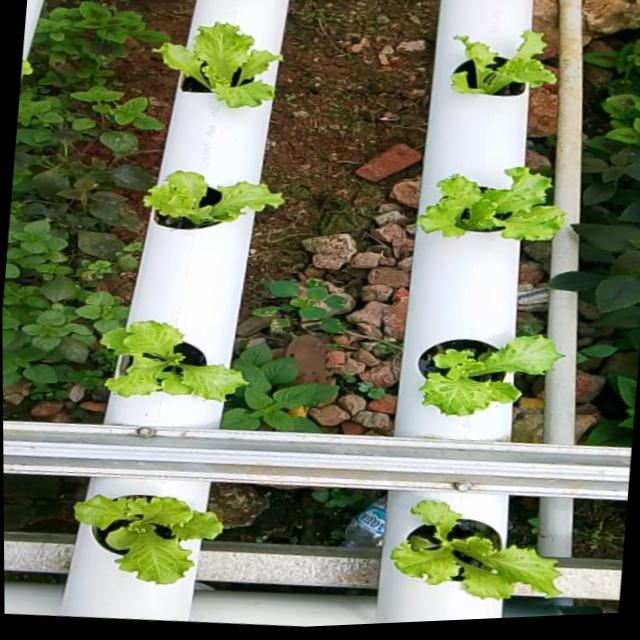Baby: (397, 495, 570, 594), (78, 478, 227, 584), (102, 319, 253, 401), (416, 335, 563, 417), (148, 22, 278, 108), (415, 166, 564, 241), (140, 171, 281, 230), (448, 30, 554, 95)
